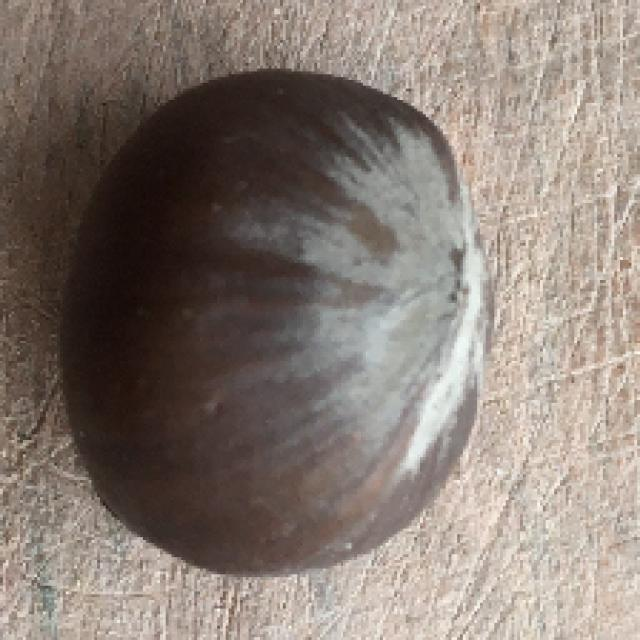damagedHazelnut: (55, 71, 503, 575)
